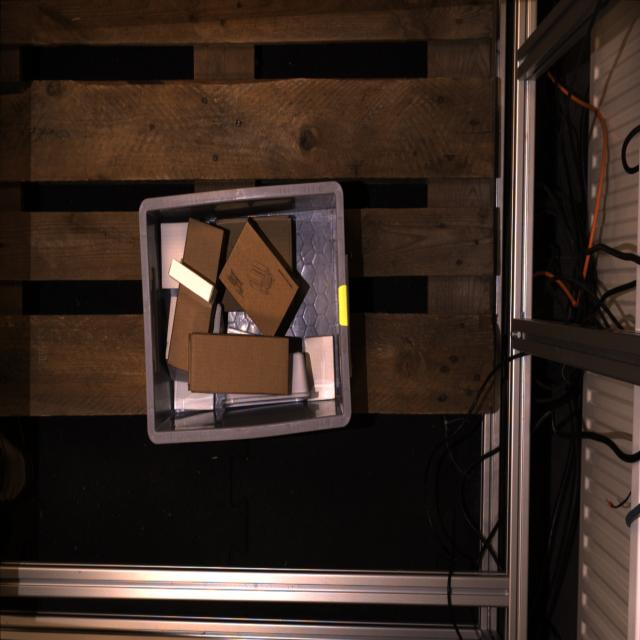CardboardBox: (218, 217, 301, 336), (168, 218, 229, 371), (188, 334, 289, 395), (216, 215, 298, 274), (168, 258, 217, 304), (305, 337, 335, 402), (161, 223, 188, 289), (174, 380, 214, 411), (166, 293, 176, 358), (218, 284, 242, 311), (208, 303, 226, 333)
PlasticContainer: (221, 353, 311, 410)
